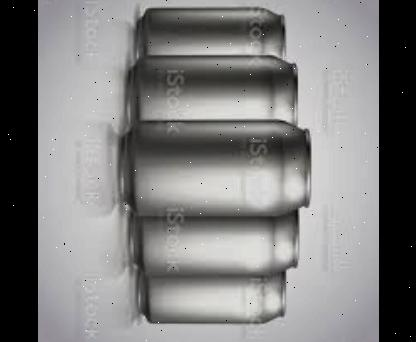Can: (117, 120, 310, 218), (126, 54, 298, 128), (125, 208, 297, 278), (135, 270, 287, 326), (134, 7, 286, 59)
